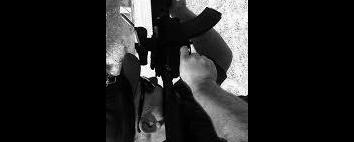gun: (134, 0, 222, 142)
